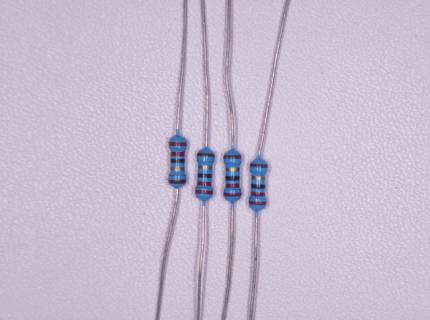Black band: (225, 175, 240, 181), (251, 183, 266, 189), (198, 173, 212, 179), (170, 158, 185, 163)
Brown band: (197, 152, 215, 158), (168, 179, 186, 184), (250, 163, 268, 168), (223, 155, 242, 159)
Gold band: (251, 175, 265, 181), (225, 167, 240, 172), (198, 165, 213, 170), (170, 167, 185, 171)
Red band: (249, 200, 267, 206), (223, 192, 242, 197), (168, 142, 187, 147), (225, 183, 240, 189), (197, 180, 212, 186), (195, 190, 213, 195), (170, 151, 185, 157), (251, 191, 265, 197)
